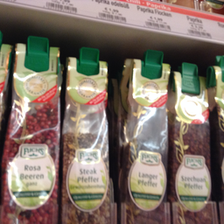spices: (3, 42, 61, 224), (62, 56, 115, 224), (122, 59, 170, 224), (170, 69, 214, 224)
